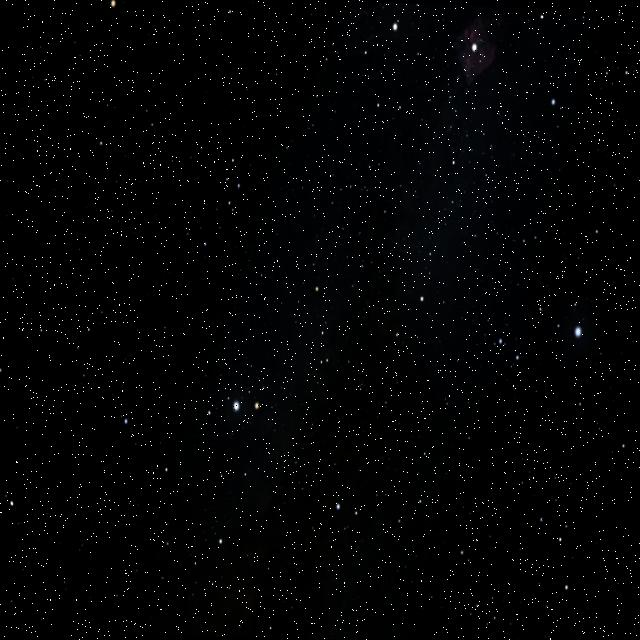Sagitta: (300, 255, 342, 378)
